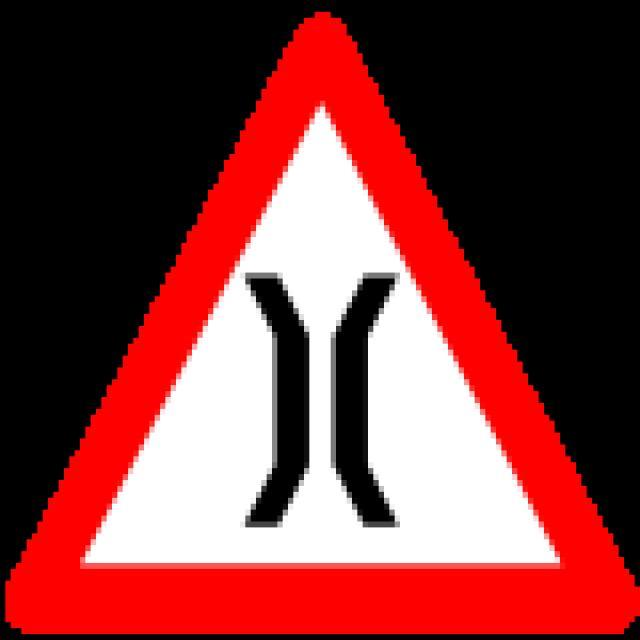Narrow bridge: (0, 0, 640, 628)
